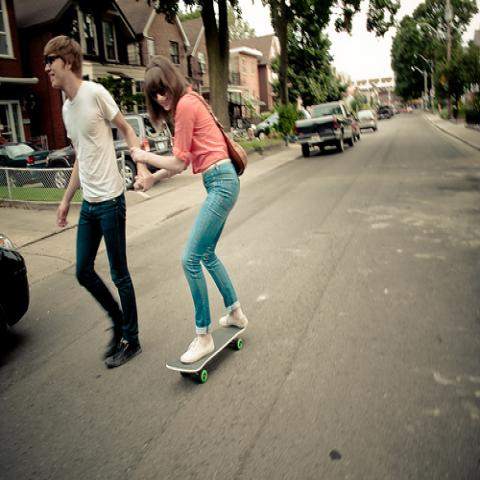car: (46, 110, 174, 190), (2, 236, 32, 328), (253, 106, 310, 138), (0, 142, 53, 168), (357, 110, 378, 133), (376, 104, 395, 120)
truck: (291, 100, 360, 159)
